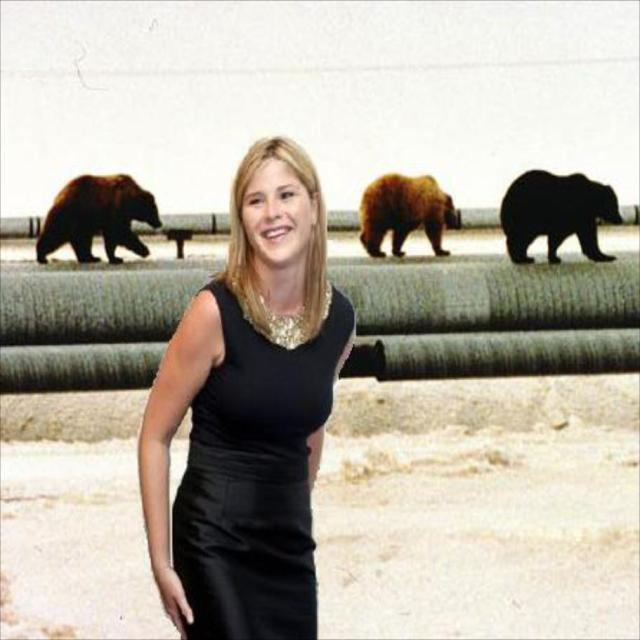Cheetahs: (33, 172, 162, 265), (359, 169, 462, 257)
